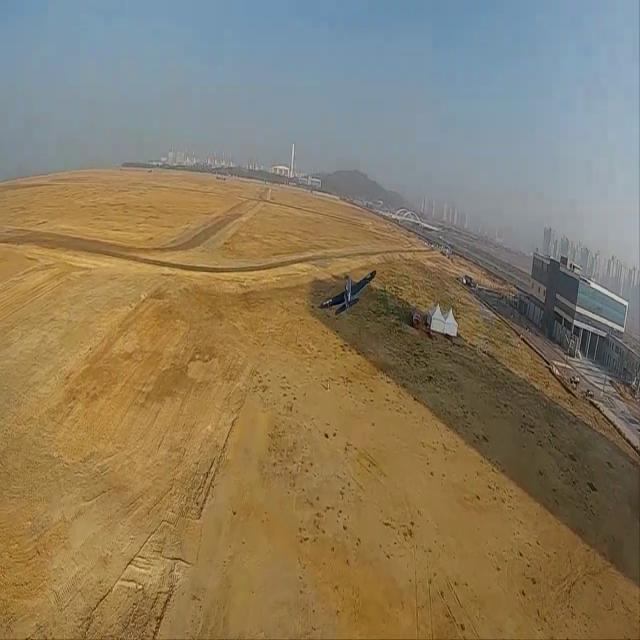iha: (343, 260, 348, 323)
